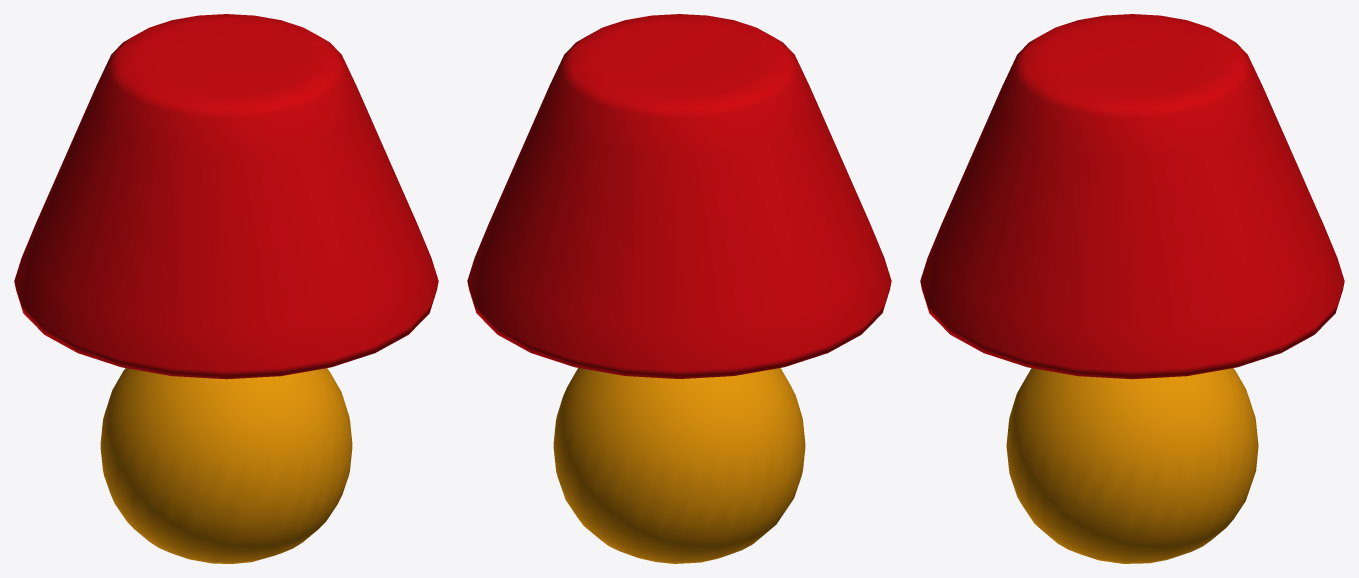
Rendered from lamp_LOD1.fbx.
3 views of the same model, side by side, from view 1: azimuth 30°, elevation 25°; view 2: azimuth 150°, elevation 25°; view 3: azimuth 270°, elevation 25° (orthographic).
Parts seen in each view (by area): view 1: lamp; view 2: lamp; view 3: lamp.
Boxes of the visible parts, left/top/right/bottom form: lamp: left=14, top=14, right=438, bottom=563; lamp: left=467, top=14, right=891, bottom=563; lamp: left=920, top=14, right=1344, bottom=563.
Size of the model in its own units: 111 by 140 by 111.
